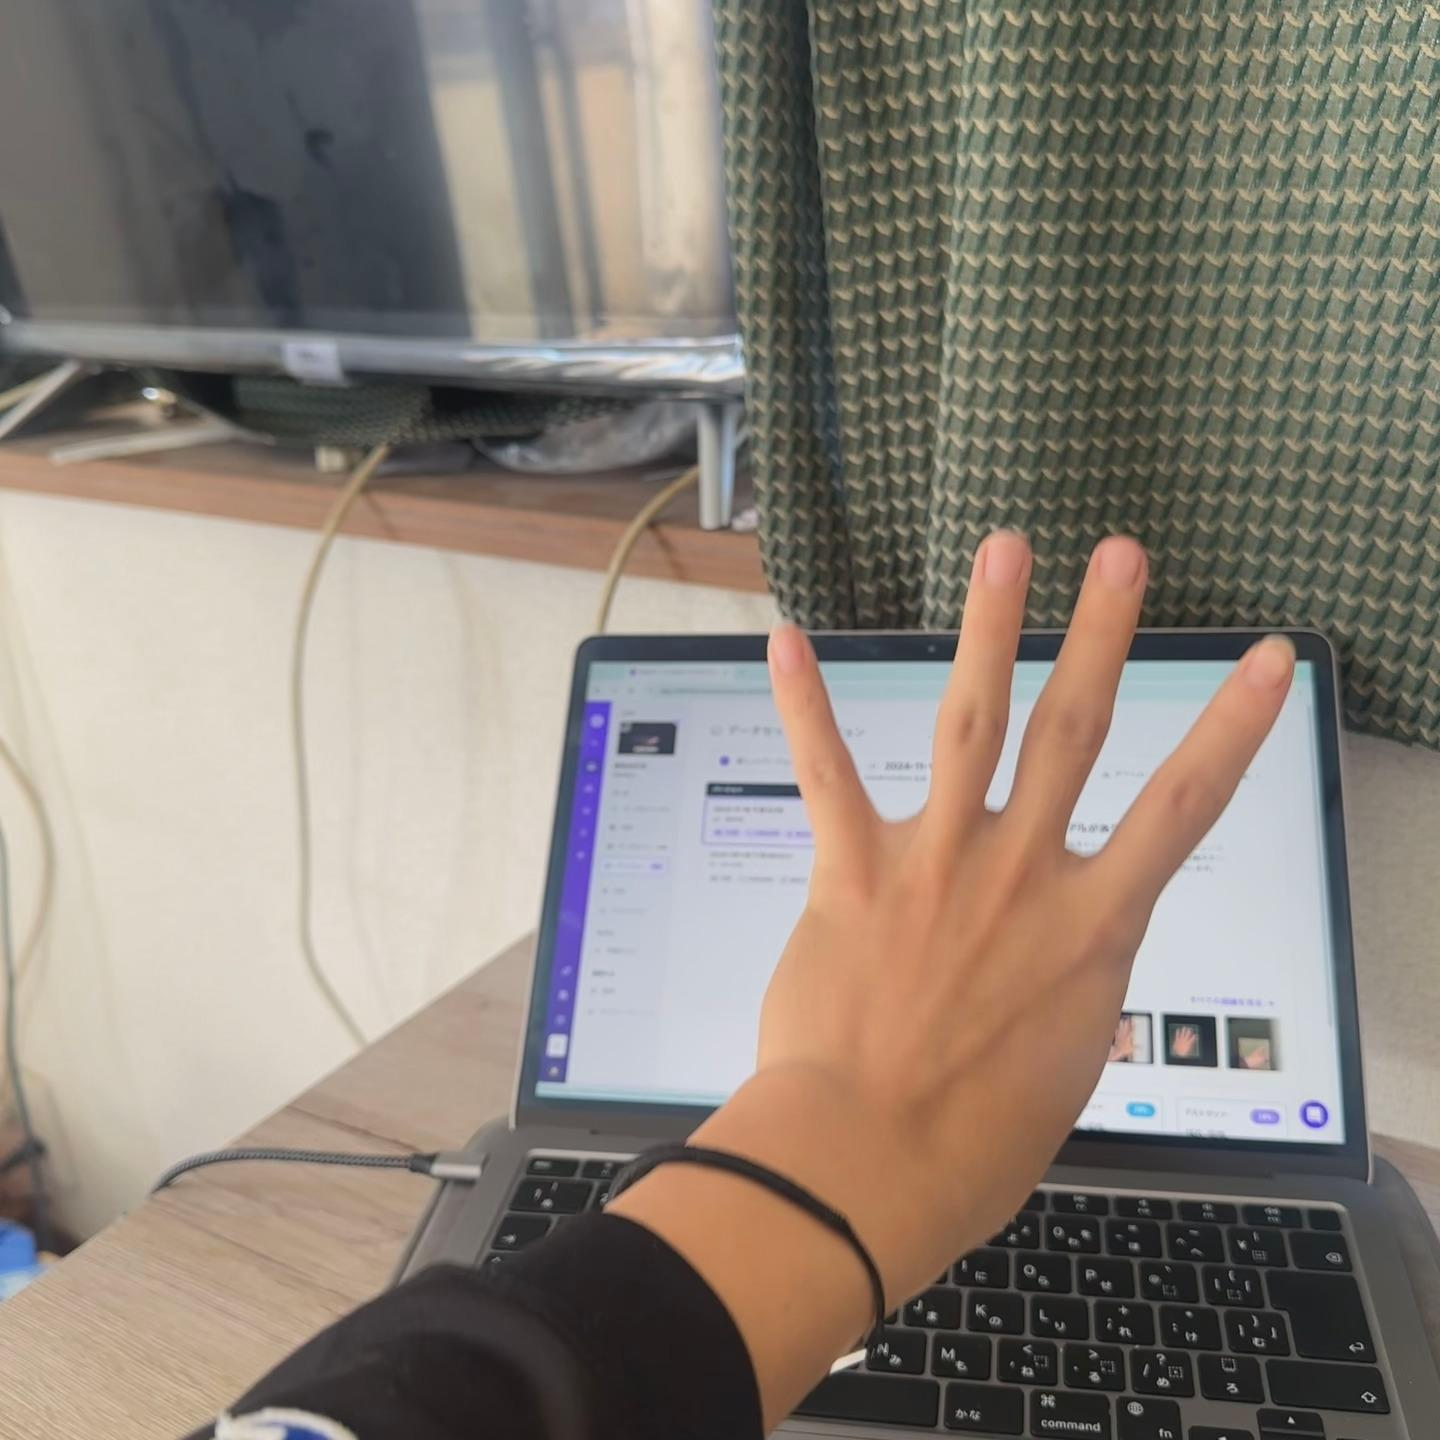without_gloves: (612, 381, 1373, 1283)
